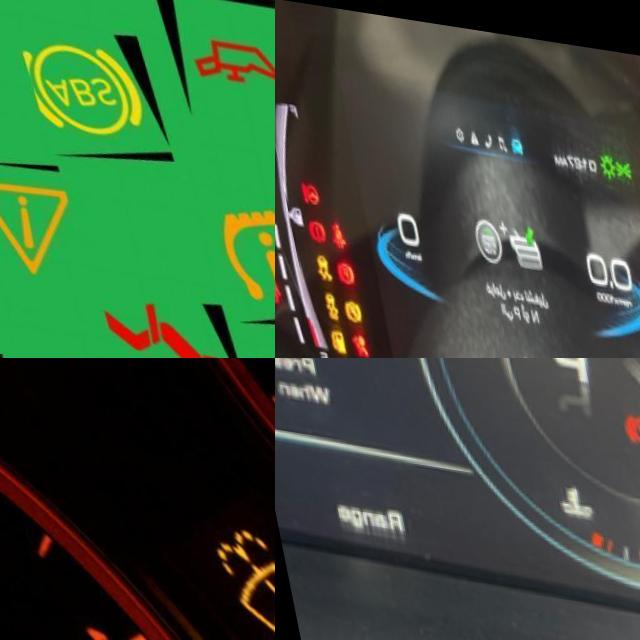Washer Fluid: (199, 516, 275, 640)
